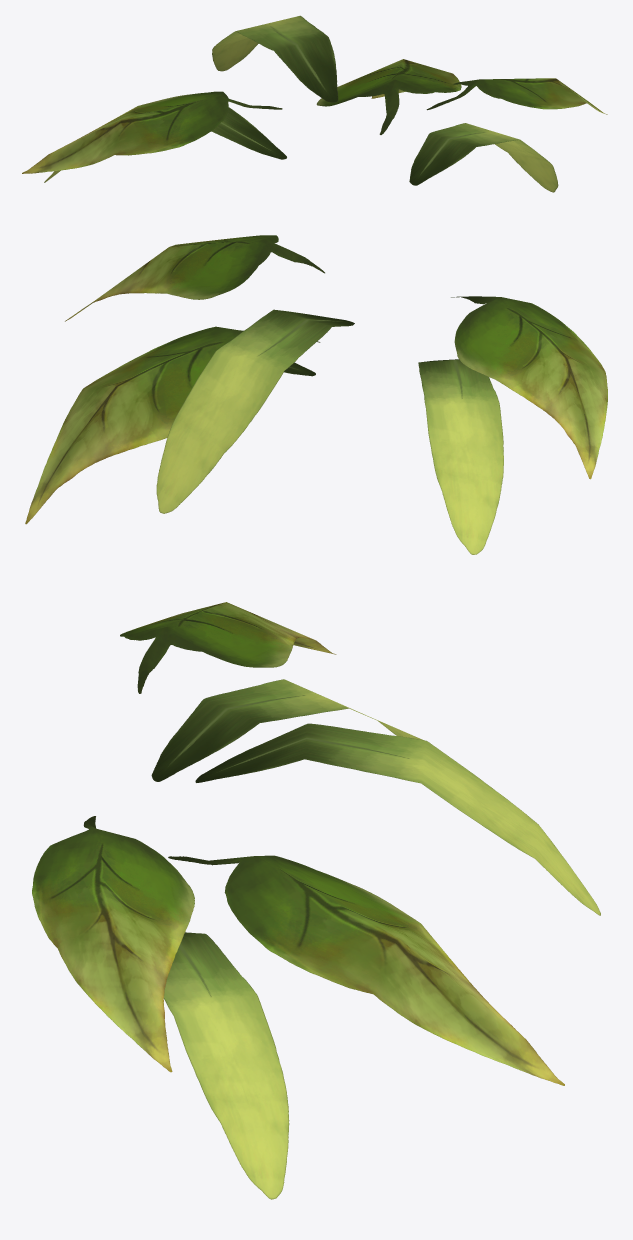
Rendered from plantDetail3.fbx.
3 views of the same model, one above another, from view 1: azimuth 30°, elevation 25°; view 2: azimuth 150°, elevation 25°; view 3: azimuth 270°, elevation 25° (orthographic). The views are drawn at different scales.
Parts seen in each view (by area): view 1: plantDetail3; view 2: plantDetail3; view 3: plantDetail3.
Boxes of the visible parts, x1,y1,x2,y2 form: plantDetail3: (22, 15, 607, 192); plantDetail3: (25, 235, 607, 554); plantDetail3: (32, 602, 600, 1199).
Bounding box in the file's own units: 2.36 × 0.9444 × 1.58.
